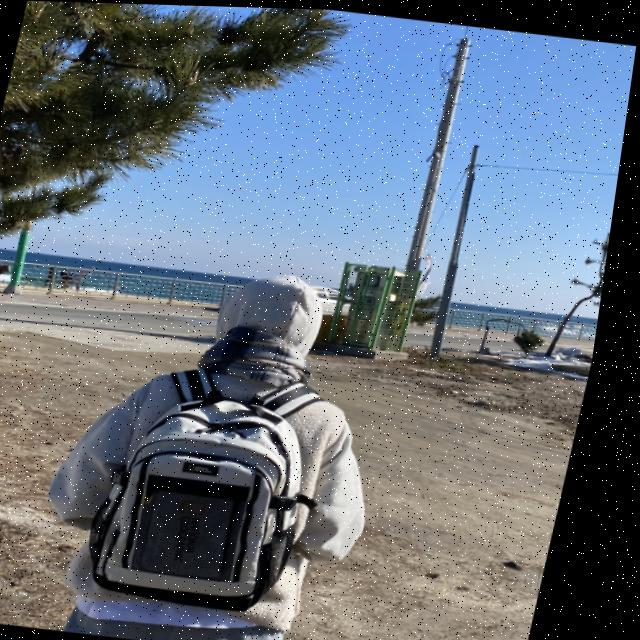backpack: (80, 357, 372, 613)
